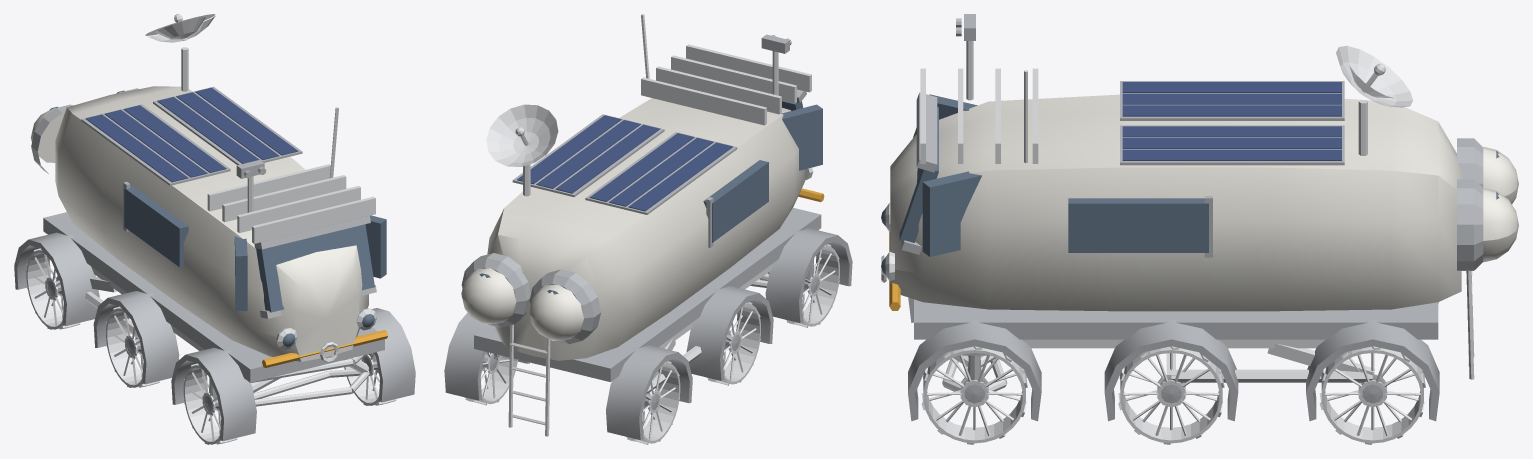
The model's file is pressurised-long-range-35466e96.glb.
3 views of the same model, side by side, from view 1: azimuth 30°, elevation 25°; view 2: azimuth 150°, elevation 25°; view 3: azimuth 270°, elevation 25° (orthographic). The views are drawn at different scales.
Parts seen in each view (by area): view 1: pressurised-long-range-rover, wheel-rear-left, wheel-front-left, wheel-mid-left, antenna-dish, wheel-front-right, bogie-left, camera; view 2: pressurised-long-range-rover, antenna-dish, wheel-mid-left, wheel-front-left, wheel-rear-left, wheel-rear-right, camera, bogie-left; view 3: pressurised-long-range-rover, wheel-front-right, wheel-rear-right, wheel-mid-right, bogie-right, antenna-dish.
Boxes of the visible parts, x1,y1,x2,y2 form: pressurised-long-range-rover: (14, 47, 415, 440); wheel-rear-left: (26, 248, 80, 329); wheel-front-left: (183, 363, 237, 444); wheel-mid-left: (106, 306, 159, 387); antenna-dish: (145, 14, 215, 42); wheel-front-right: (344, 353, 396, 405); bogie-left: (85, 277, 138, 338); camera: (236, 160, 266, 178); pressurised-long-range-rover: (444, 14, 852, 439); antenna-dish: (486, 104, 558, 166); wheel-mid-left: (707, 301, 760, 385); wheel-front-left: (786, 244, 839, 327); wheel-rear-left: (626, 360, 680, 444); wheel-rear-right: (465, 352, 518, 405); camera: (761, 34, 791, 53); bogie-left: (646, 338, 701, 393); pressurised-long-range-rover: (881, 41, 1518, 421); wheel-front-right: (921, 346, 1027, 444); wheel-rear-right: (1319, 346, 1425, 444); wheel-mid-right: (1118, 346, 1224, 444); bogie-right: (1166, 343, 1374, 382); antenna-dish: (1336, 45, 1412, 107).
Size of the model in its own units: 2.99 by 4.3 by 6.81.
